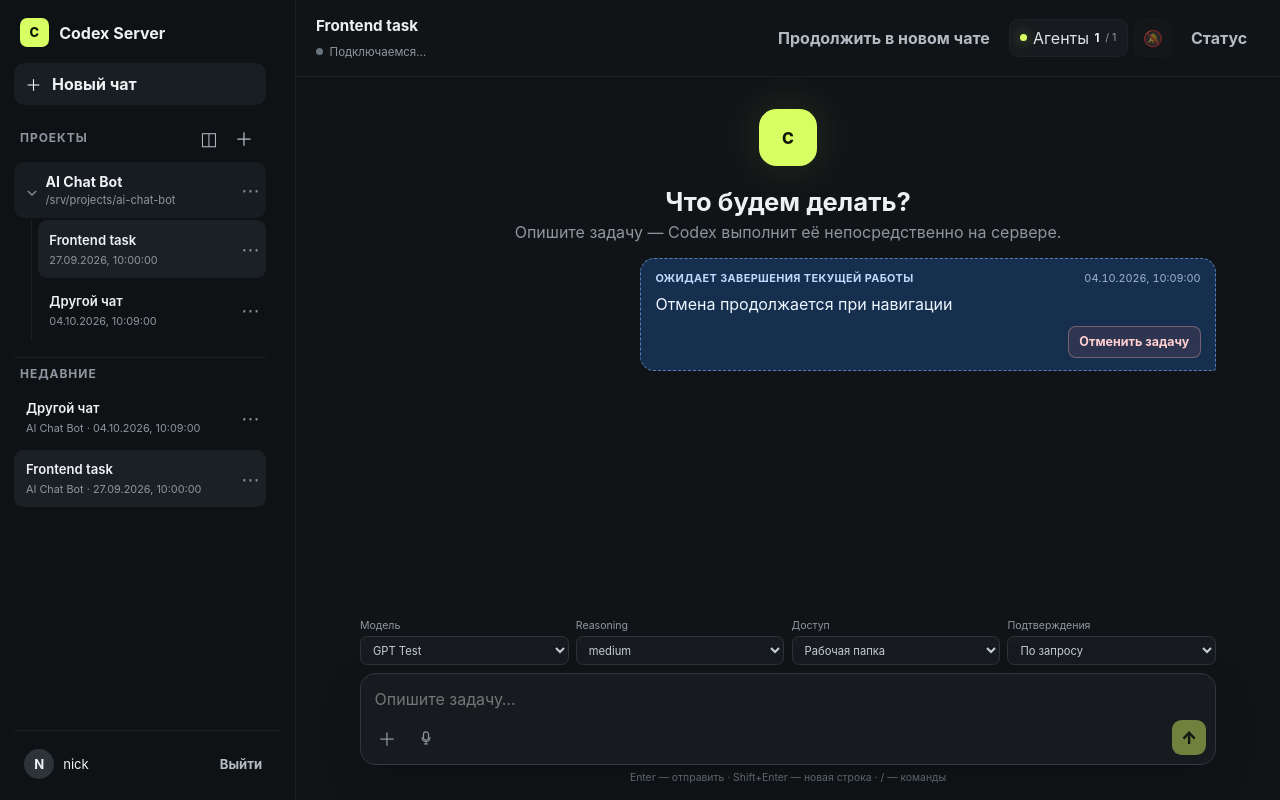
Scenario: App › keeps an in-flight cancellation guarded while navigating away and back
The width and height of the screenshot is (1280, 800).
Click the button "Отменить задачу": (1134, 342) x1=1068 y1=326 x2=1201 y2=358
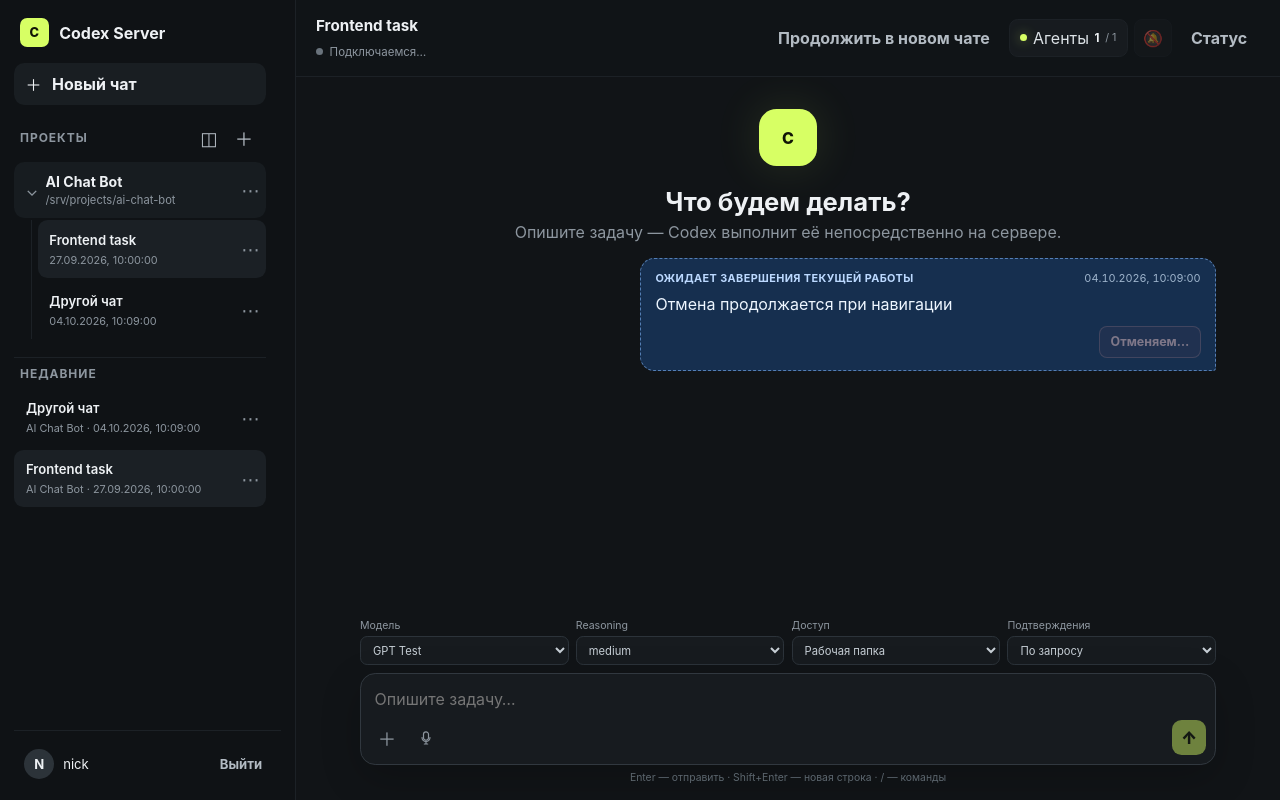
expect the button "Отменяем…" is shown: met, box x1=1099 y1=326 x2=1201 y2=358
Click the button with aria-label "Открыть недавний чат Другой чат": (125, 418) x1=14 y1=389 x2=235 y2=446
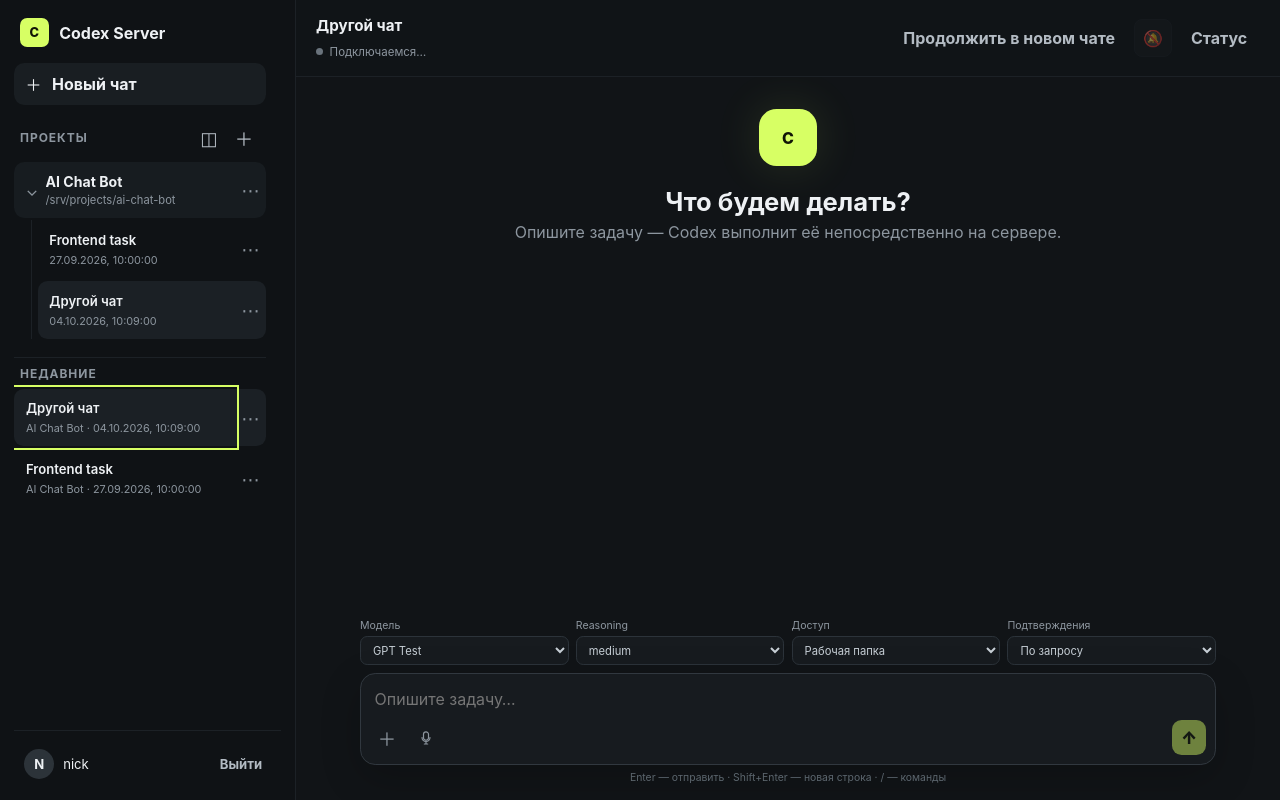
expect the heading "Другой чат" is shown: met, box x1=316 y1=16 x2=402 y2=35
Click the button with aria-label "Открыть недавний чат Frontend task": (125, 479) x1=14 y1=450 x2=235 y2=508
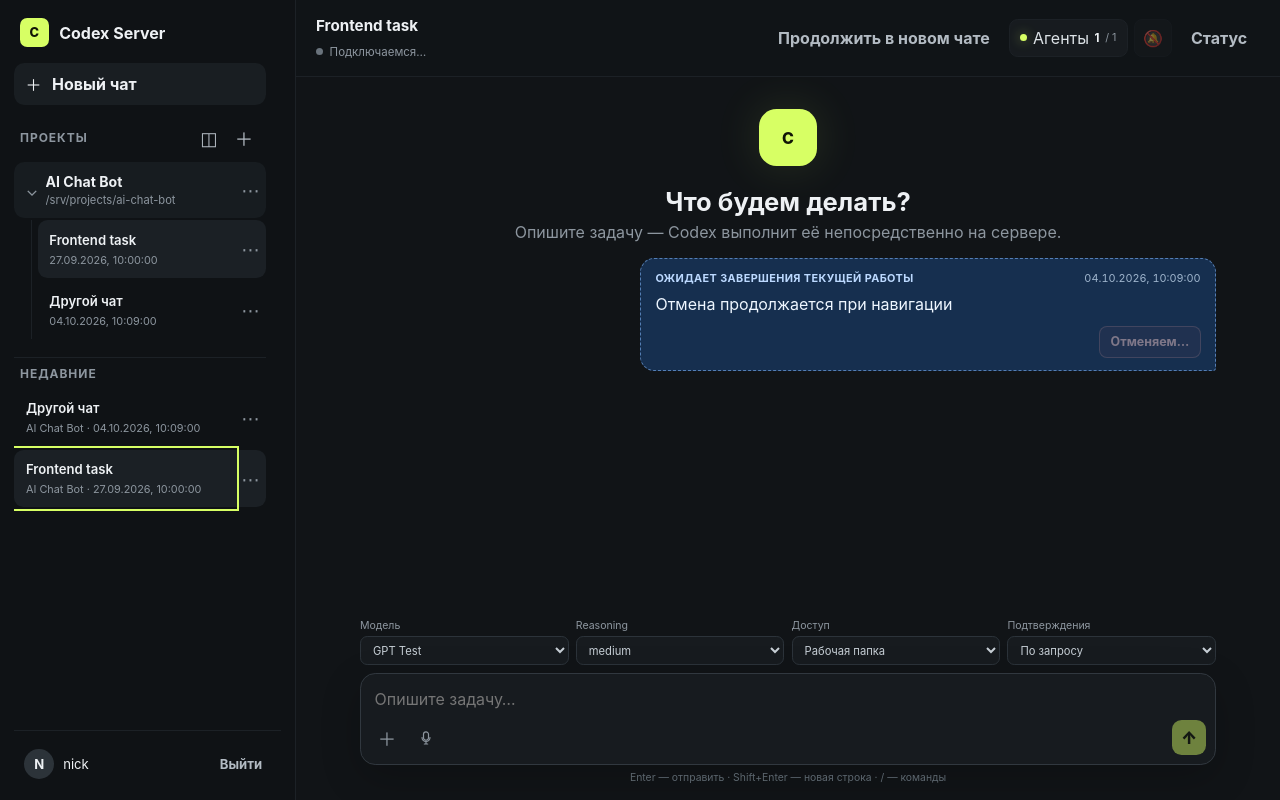
expect the button "Отменяем…" is disabled: met
Click the button "Отменяем…": (1150, 342) x1=1099 y1=326 x2=1201 y2=358
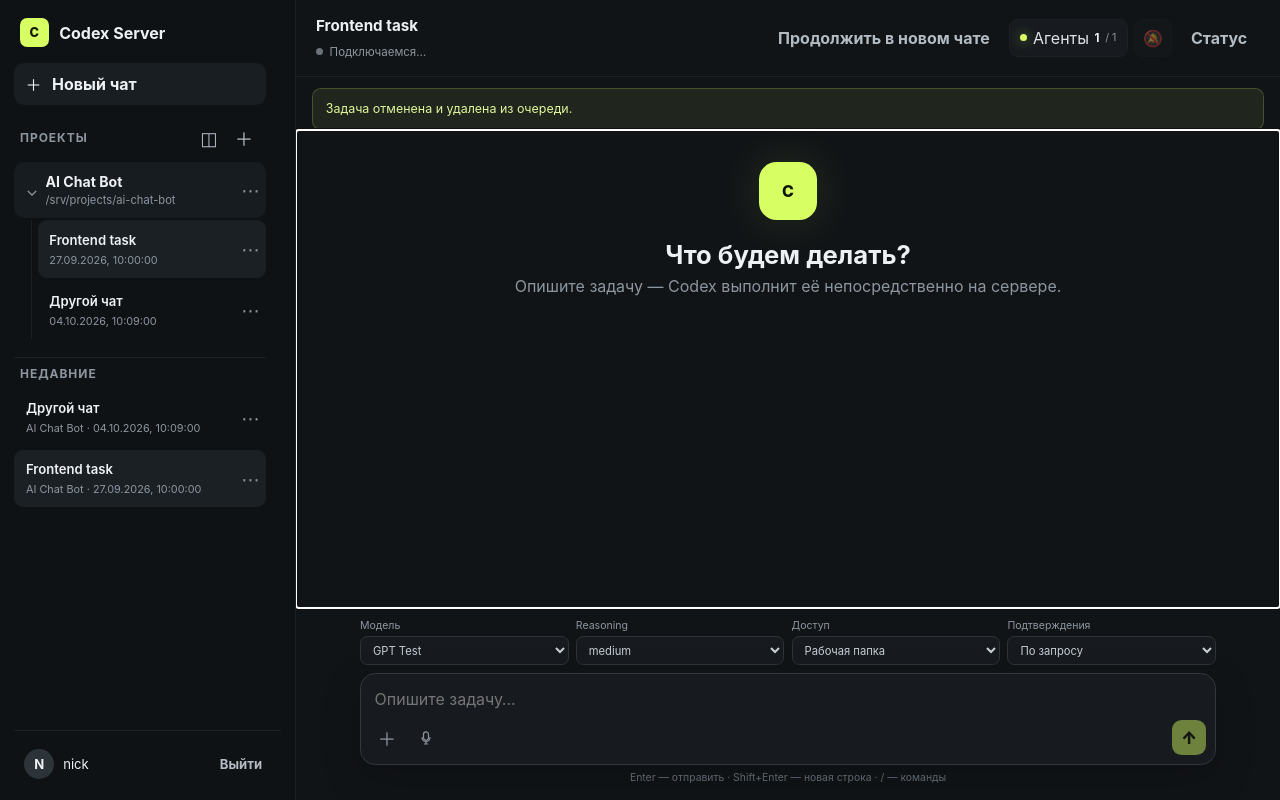
expect the text "Задача отменена и удалена из очереди." is shown: met, box x1=326 y1=100 x2=572 y2=118
